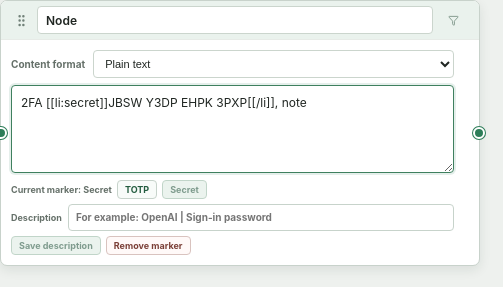
InformationNodeCard › recognizes an existing marker at the caret and changes its complete type
The width and height of the screenshot is (503, 287).
Expected: the element named "Current marker: Secret" is shown, [11,180,454,255]
Expected: the button "Secret" is disabled, [162,180,207,199]
Step 1. Click the button "TOTP" → click(137, 189), box [117,180,157,199]
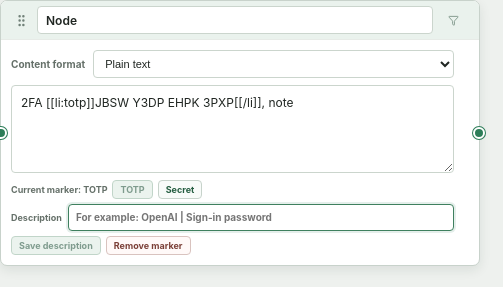
Now the text box named "Content" holds "2FA [ [li:totp]]JBSW Y3DP EHPK 3PXP[ [/li]], note", box [11,85,454,173]
